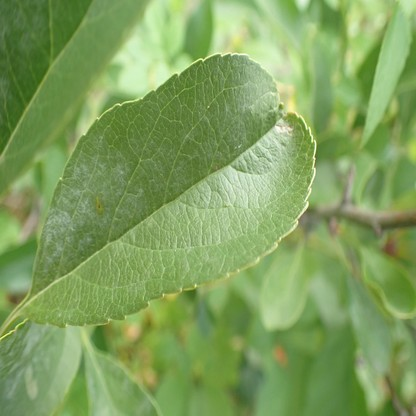powder: (39, 137, 143, 278), (0, 0, 48, 95), (147, 147, 186, 192), (23, 321, 50, 357), (3, 366, 25, 400), (5, 331, 23, 357)
